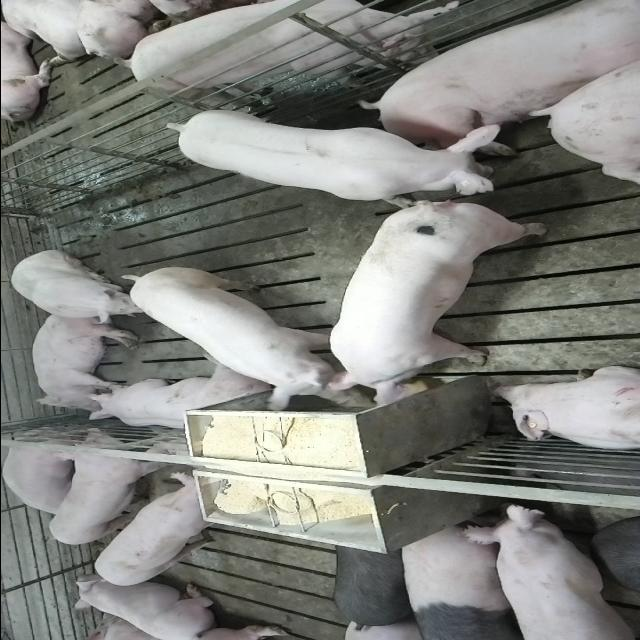Feeding: (330, 198, 552, 409), (118, 266, 364, 414)
Lateral_lying: (360, 3, 636, 159), (29, 311, 139, 413)
Sitting: (8, 250, 154, 326)
Standing: (114, 0, 486, 102), (162, 108, 507, 208), (462, 501, 640, 638), (92, 474, 237, 588), (399, 517, 534, 638), (329, 532, 425, 632)
Sternal_lying: (490, 365, 640, 453), (85, 364, 269, 434), (72, 579, 222, 638)
